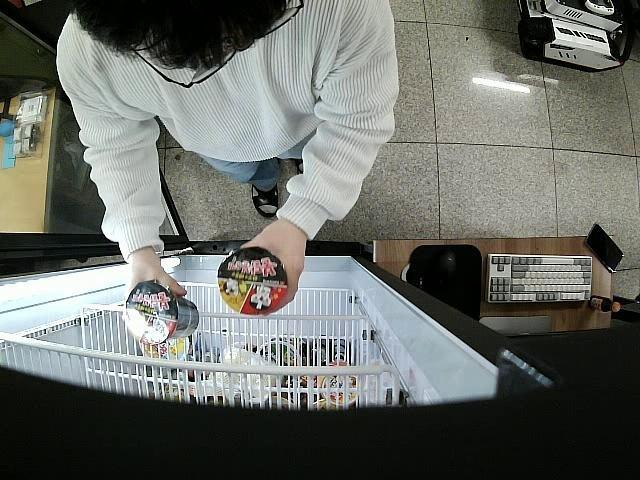08_buldak_S: (126, 285, 200, 346), (217, 252, 286, 314)
